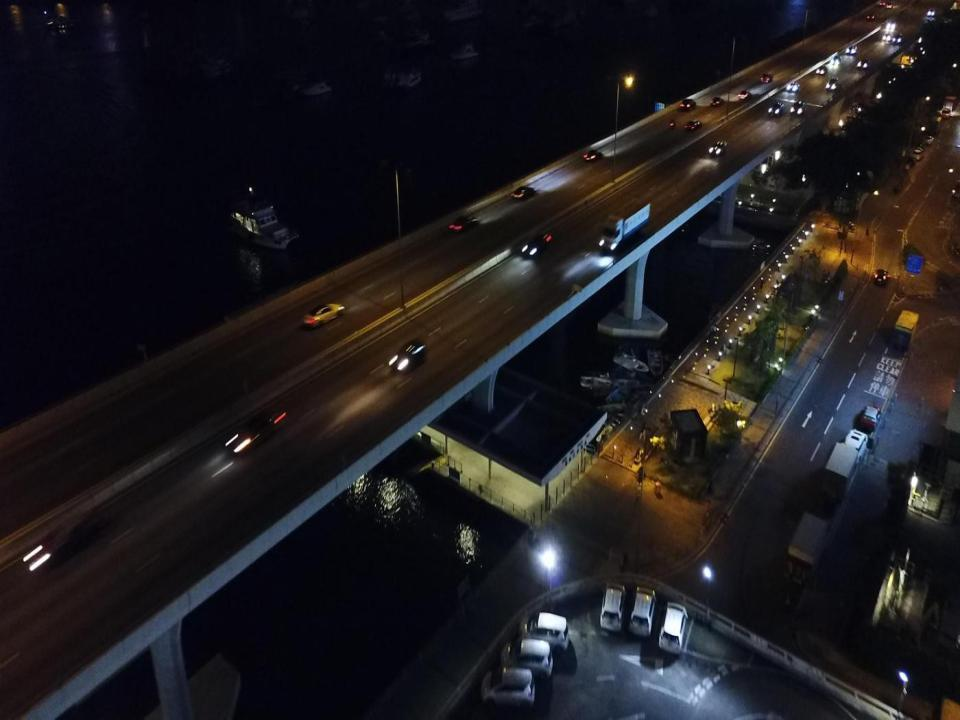car: (28, 511, 116, 579), (229, 407, 288, 453), (502, 640, 554, 678), (518, 611, 570, 649), (485, 670, 535, 704), (658, 604, 688, 654), (598, 583, 626, 635), (629, 583, 657, 635), (389, 337, 428, 373), (305, 301, 343, 326), (523, 232, 552, 258), (447, 214, 480, 233), (861, 406, 881, 430), (583, 146, 605, 164), (513, 183, 536, 199), (708, 141, 728, 158), (874, 269, 888, 284), (790, 100, 806, 113), (825, 77, 841, 90), (685, 120, 702, 132), (768, 102, 784, 114), (680, 98, 697, 109), (710, 96, 725, 108), (737, 88, 752, 100), (759, 71, 774, 83), (856, 56, 871, 68), (787, 80, 800, 92), (831, 52, 842, 65), (846, 45, 858, 56), (893, 32, 904, 44), (815, 64, 828, 74), (867, 12, 878, 19), (924, 136, 933, 144), (928, 8, 936, 16), (884, 34, 892, 41), (879, 0, 889, 5), (888, 21, 895, 28), (887, 2, 894, 8)
truck: (822, 428, 868, 502), (787, 511, 833, 584), (600, 195, 650, 258), (893, 309, 919, 352)
van: (912, 148, 924, 159), (941, 108, 951, 118)
